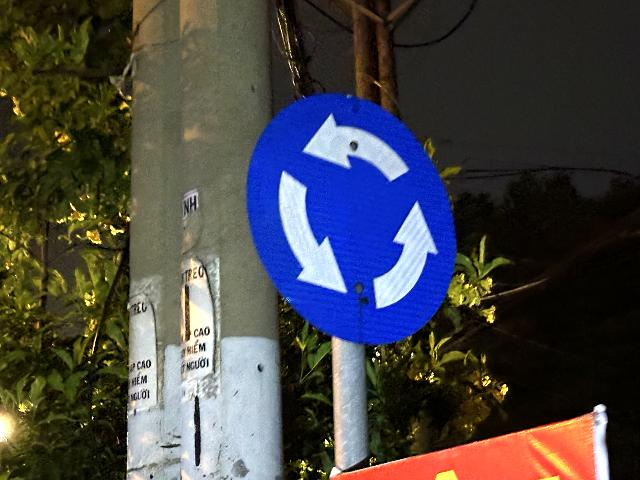noi-giao-nhau-chay-theo-vong-xuyen: (246, 93, 459, 347)
